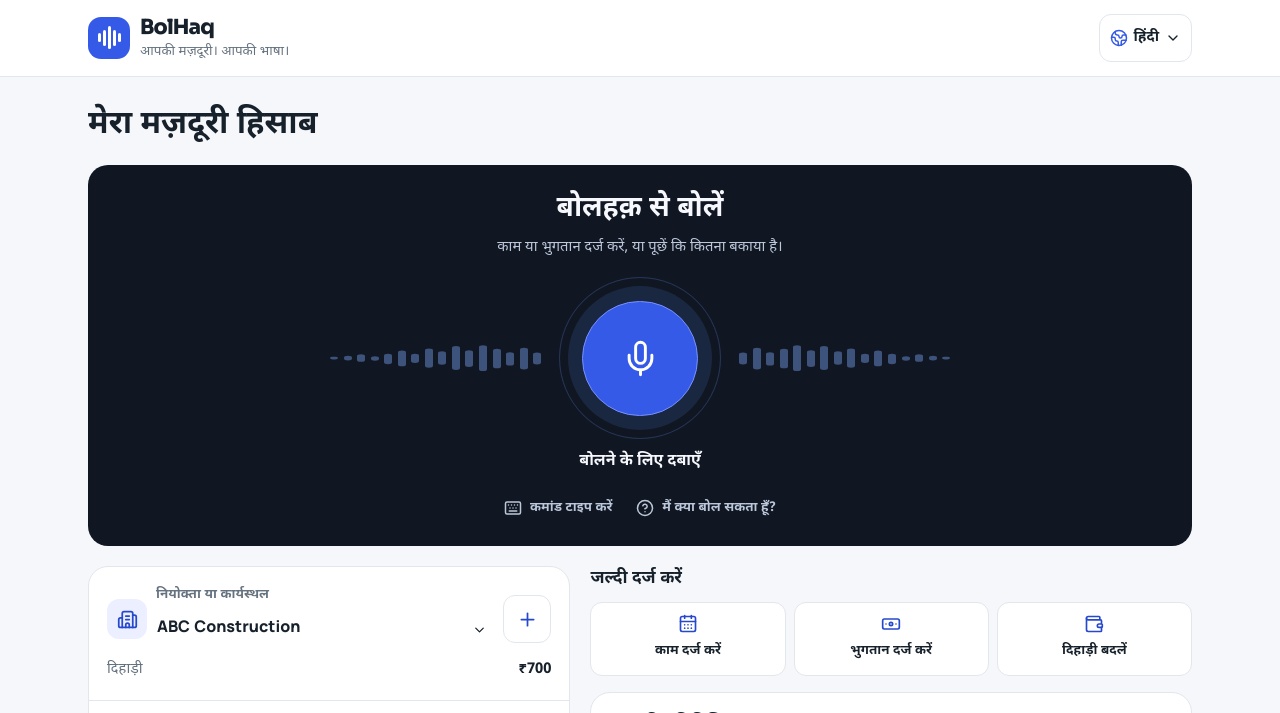
prefills the editable input through the hi-IN browser recognition adapter for मुझे आईएनआर 2000 मिले
Click the button named "बोलने के लिए दबाएँ" at x=640, y=358, box x1=582 y1=301 x2=698 y2=416
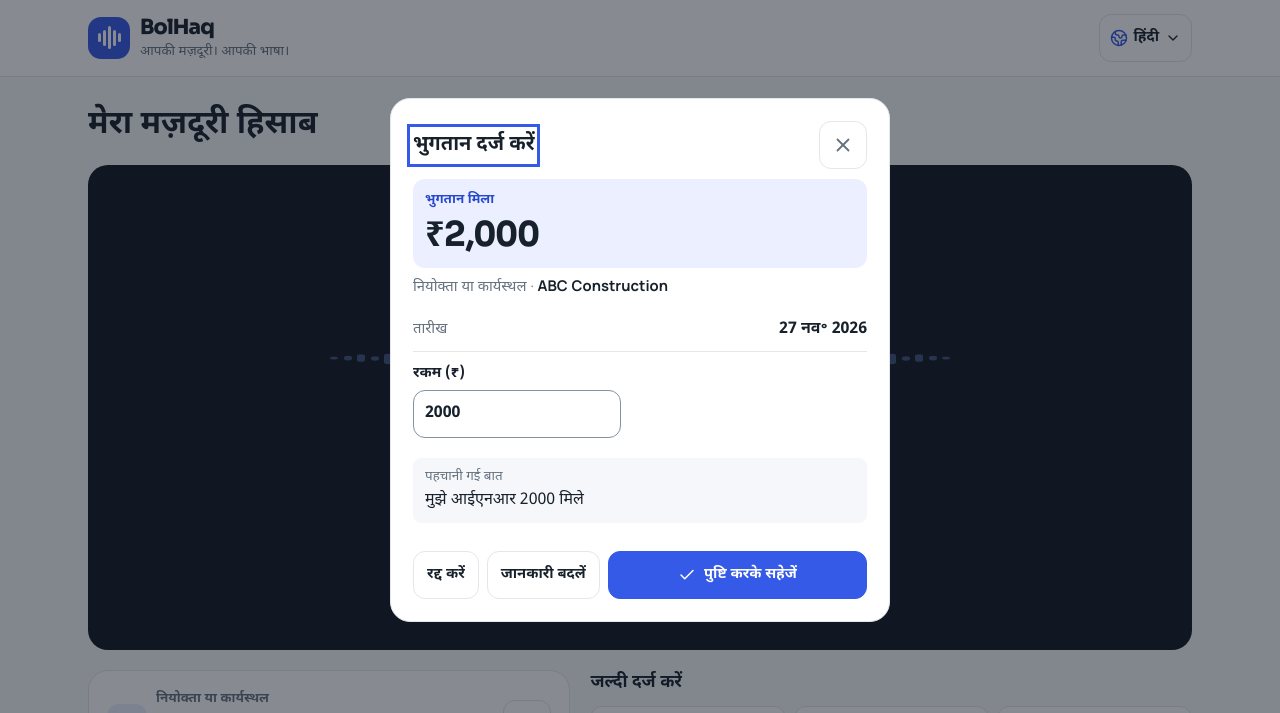
expect the field labelled "रकम (₹)" holds "2000": met, box x1=413 y1=390 x2=621 y2=438
expect the text "मुझे आईएनआर 2000 मिले" is shown: met, box x1=425 y1=490 x2=584 y2=511
expect the text "ABC Construction" is shown: met, box x1=538 y1=278 x2=668 y2=297
Click the button "रद्द करें" at x=446, y=575, box x1=413 y1=551 x2=479 y2=599
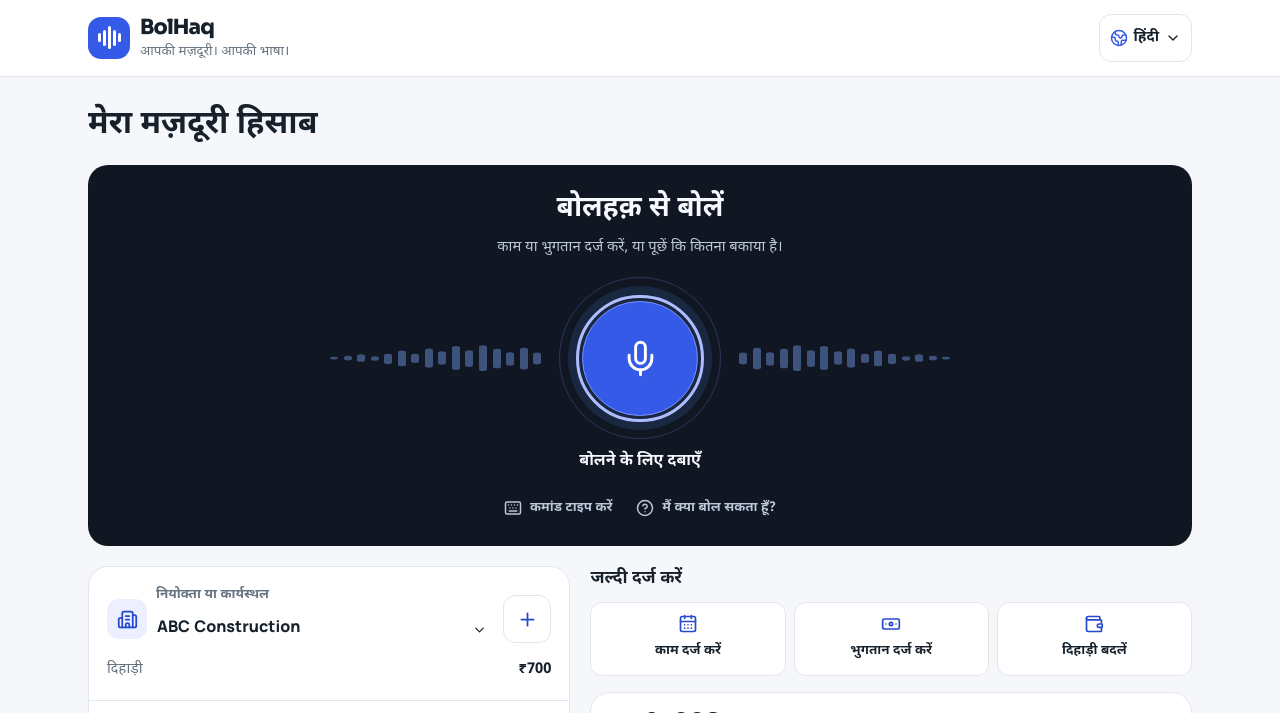
expect the dialog is gone: met
